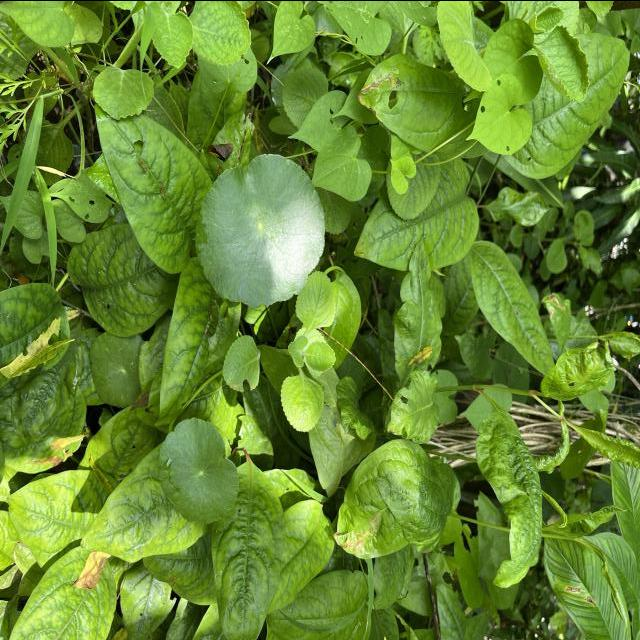Bacopa monnieri: (193, 152, 328, 308), (156, 414, 241, 525), (88, 326, 150, 408)
